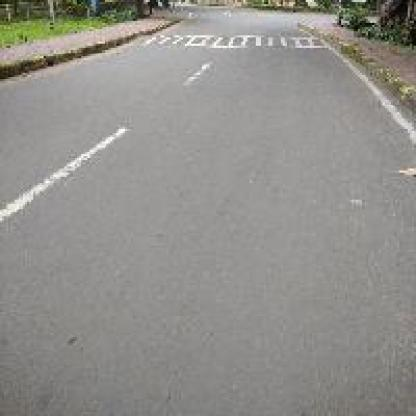Speed Bump: (139, 31, 333, 48)
